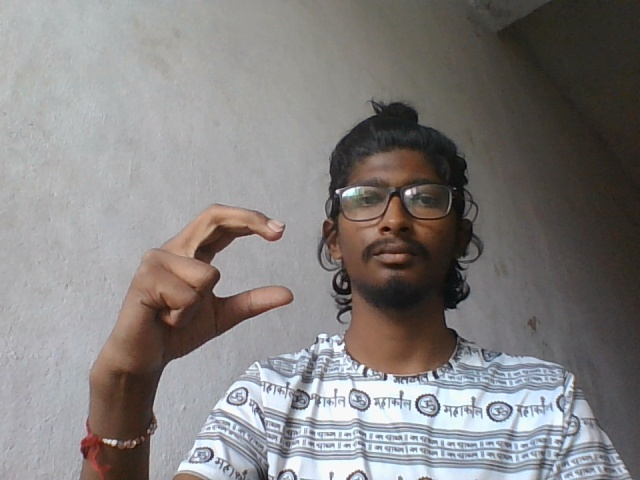Stop: (101, 192, 311, 358)
